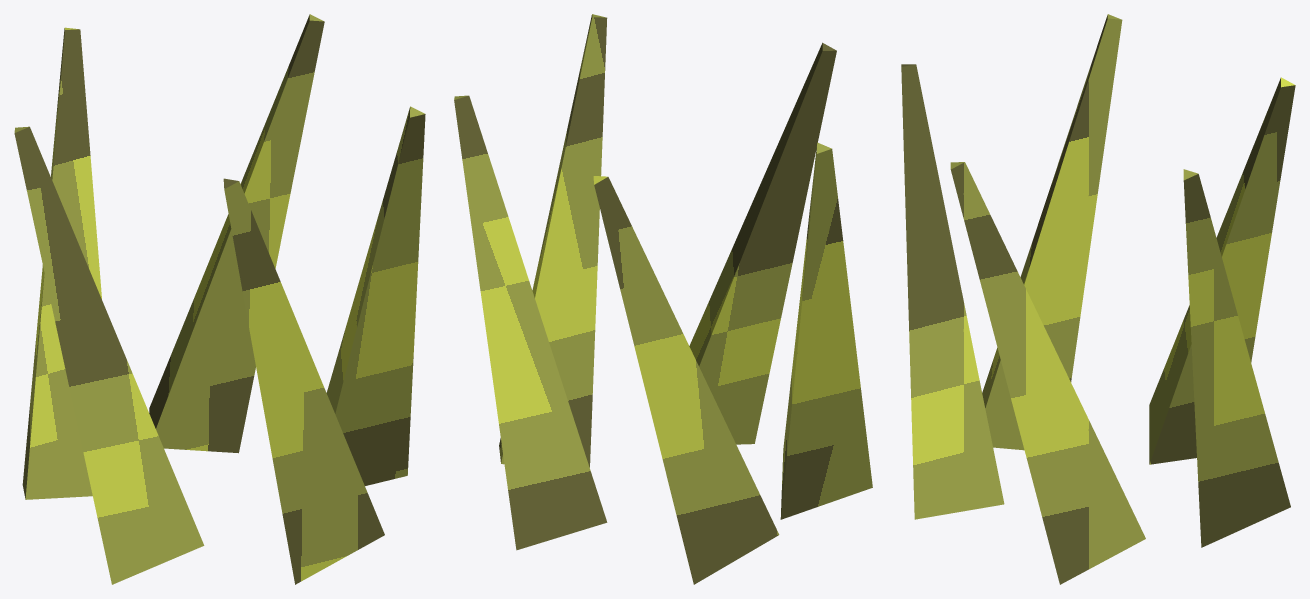
The model's file is r04_erva_seca.glb.
3 views of the same model, side by side, from view 1: azimuth 30°, elevation 25°; view 2: azimuth 150°, elevation 25°; view 3: azimuth 270°, elevation 25° (orthographic). The views are drawn at different scales.
Parts seen in each view (by area): view 1: r04_erva_seca; view 2: r04_erva_seca; view 3: r04_erva_seca.
Boxes of the visible parts, box(x1,y1,x2,y2) form: r04_erva_seca: box(14, 14, 425, 584); r04_erva_seca: box(454, 14, 872, 584); r04_erva_seca: box(901, 14, 1295, 584).
Size of the model in its own units: 0.4083 by 0.4502 by 0.3937.
Materials: 1 (1 with a texture image).
